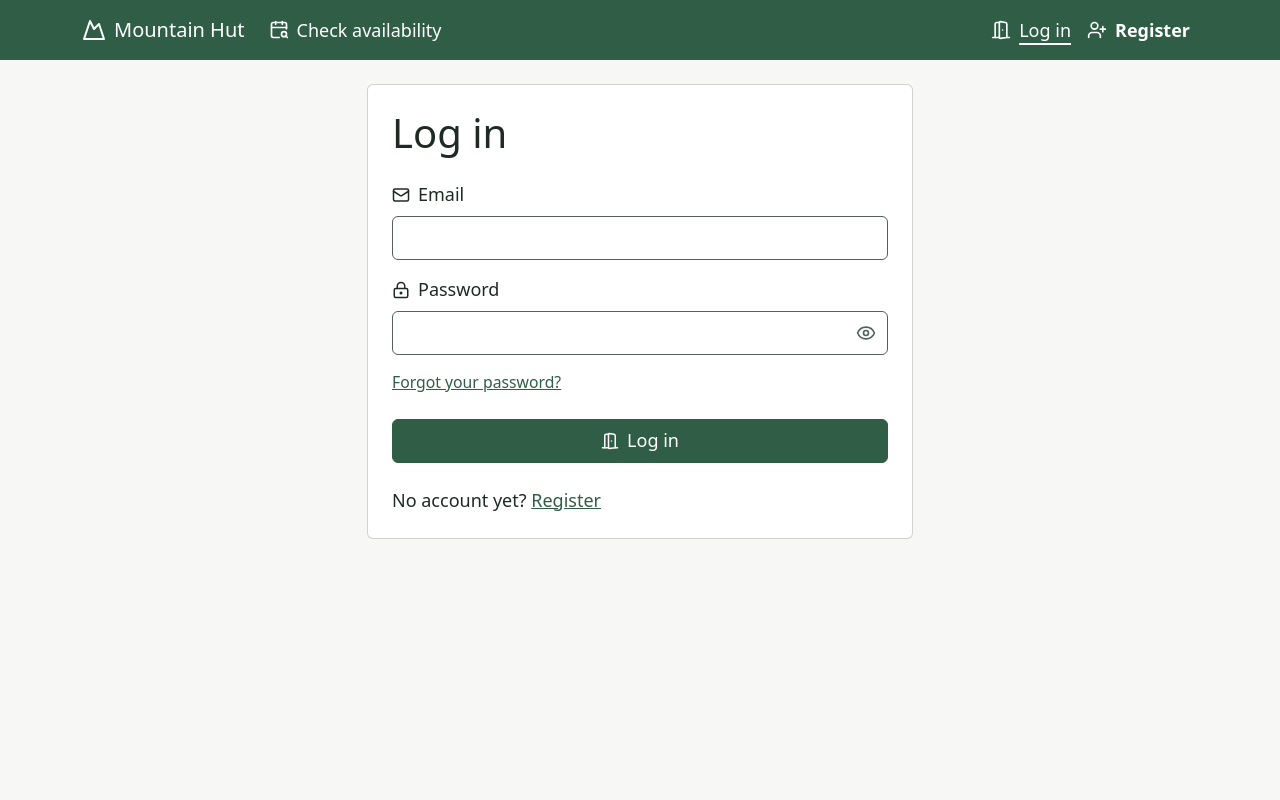
Scenario: F1 forced password change › in the whole app › right after logging in with the generated password, the Change password page opens
Type "hiker@example.com" into the field labelled "Email" at (640, 238), box [392,216,888,260]
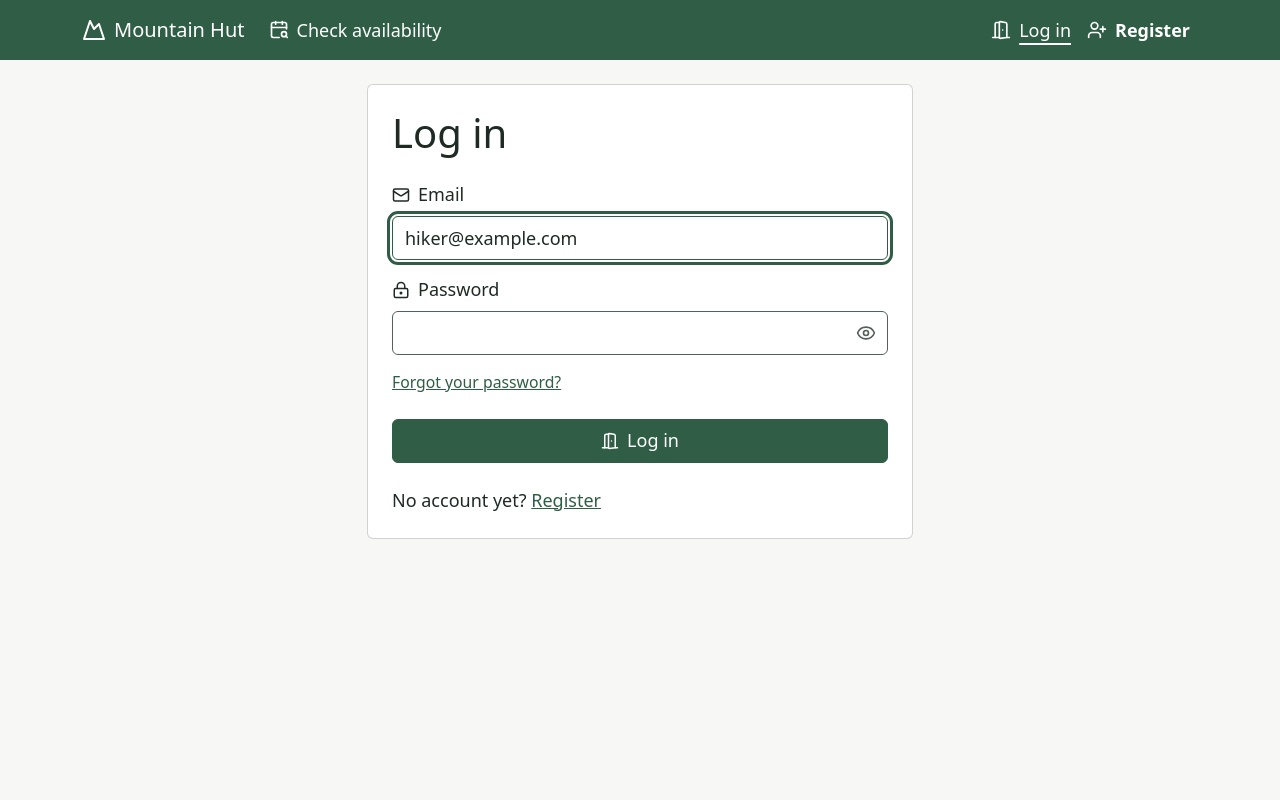
Type "k7Qp2xWm9aTz" into the password field labelled "Password" at (640, 333), box [392,311,888,355]
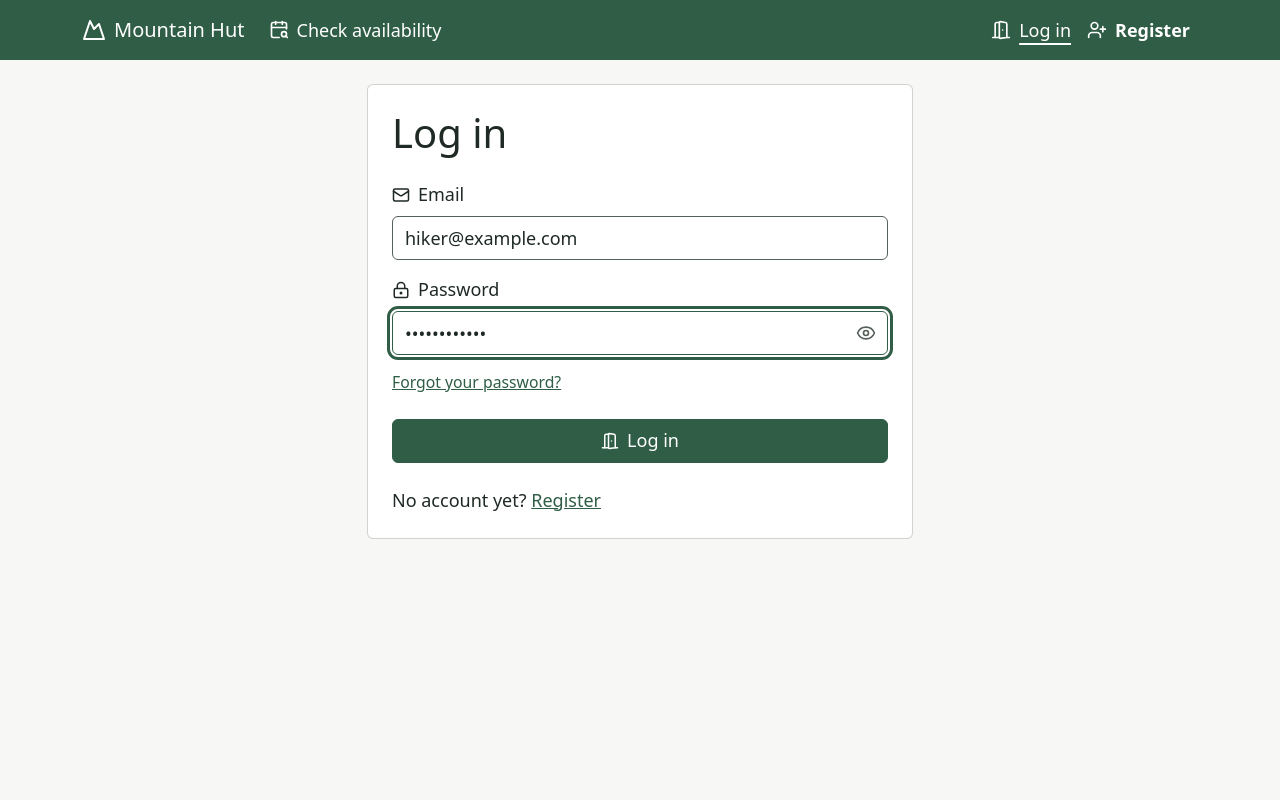
Click the button "Log in" at (640, 441), box [392,419,888,463]
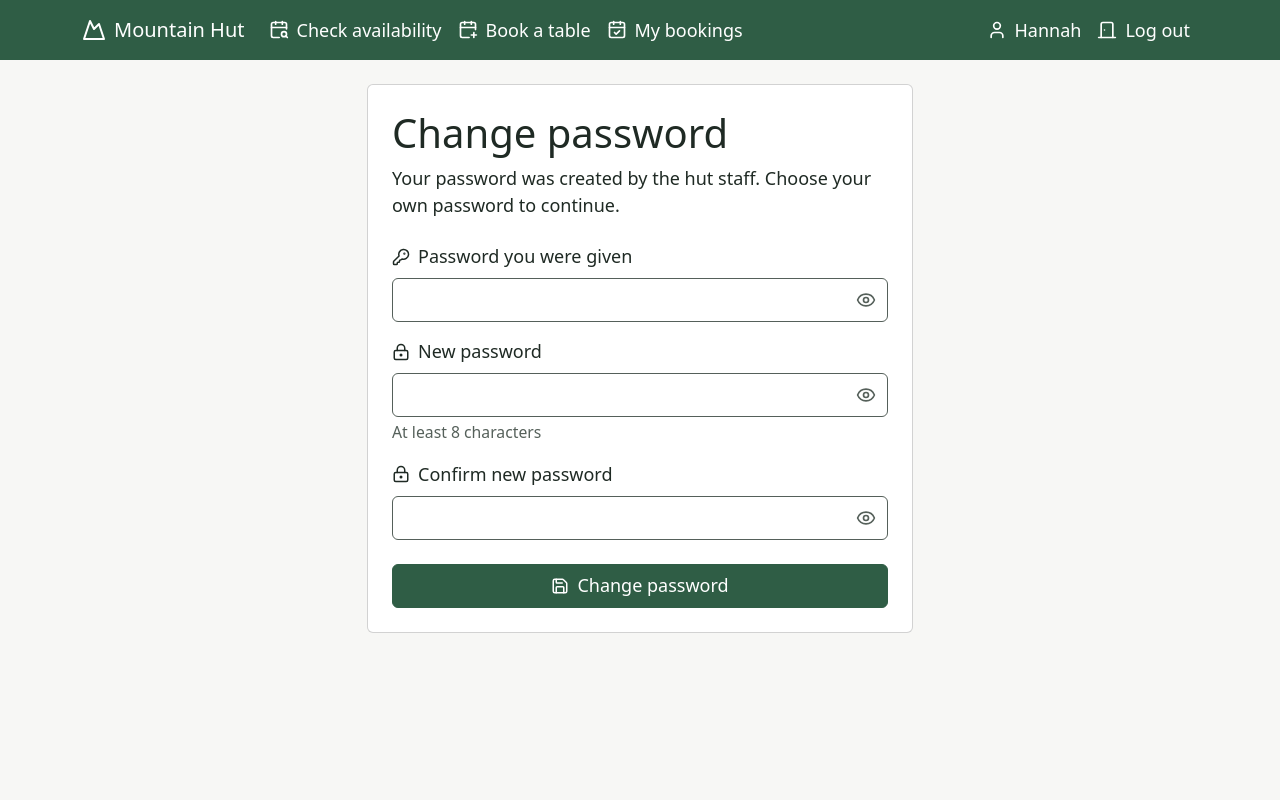
Result: the heading "Change password" is shown at [392,105,728,160]
